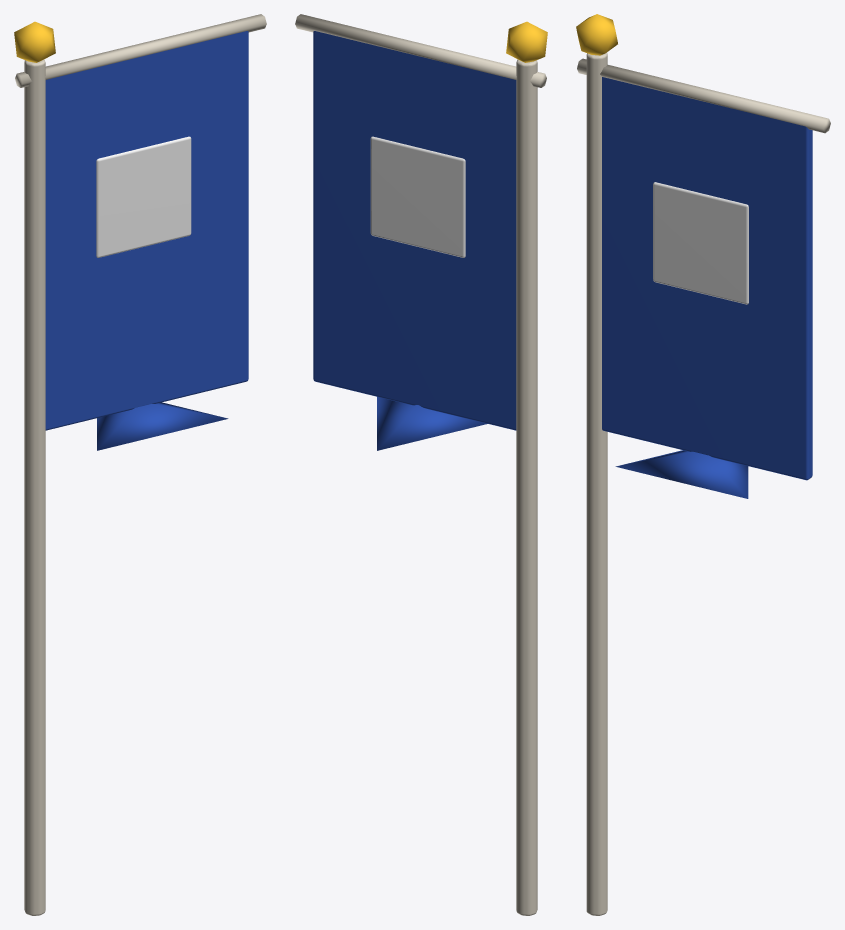
Rendered from banner_blue.glb.
3 views of the same model, side by side, from view 1: azimuth 30°, elevation 25°; view 2: azimuth 150°, elevation 25°; view 3: azimuth 330°, elevation 25° (orthographic).
Parts seen in each view (by area): view 1: cloth, pole, emblem, bar, cut, orb; view 2: cloth, pole, emblem, bar, cut, orb; view 3: cloth, pole, emblem, bar, cut, orb.
Part boxes in pixels (left/top/right/bottom): cloth: left=45, top=31, right=248, bottom=430; pole: left=24, top=59, right=45, bottom=915; emblem: left=96, top=136, right=191, bottom=257; bar: left=15, top=14, right=266, bottom=87; cut: left=97, top=402, right=228, bottom=450; orb: left=14, top=21, right=55, bottom=62; cloth: left=313, top=31, right=516, bottom=430; pole: left=516, top=59, right=537, bottom=915; emblem: left=370, top=136, right=465, bottom=257; bar: left=295, top=14, right=546, bottom=87; cut: left=377, top=397, right=487, bottom=450; orb: left=506, top=21, right=547, bottom=62; cloth: left=602, top=77, right=812, bottom=480; pole: left=586, top=52, right=607, bottom=915; emblem: left=653, top=182, right=748, bottom=304; bar: left=577, top=58, right=830, bottom=133; cut: left=615, top=450, right=748, bottom=498; orb: left=576, top=14, right=617, bottom=55.
Bounding box in the file's own units: 0.3024 × 1.04 × 0.1404.
